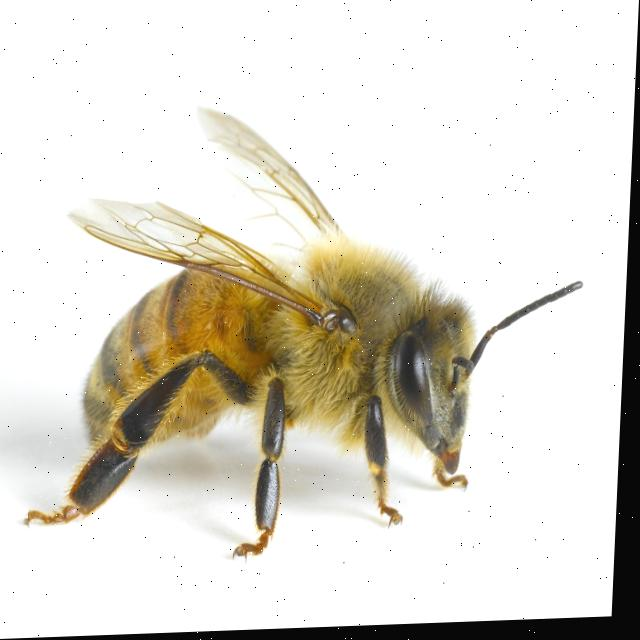Apis-mellifera-scutellata: (30, 88, 562, 609)
